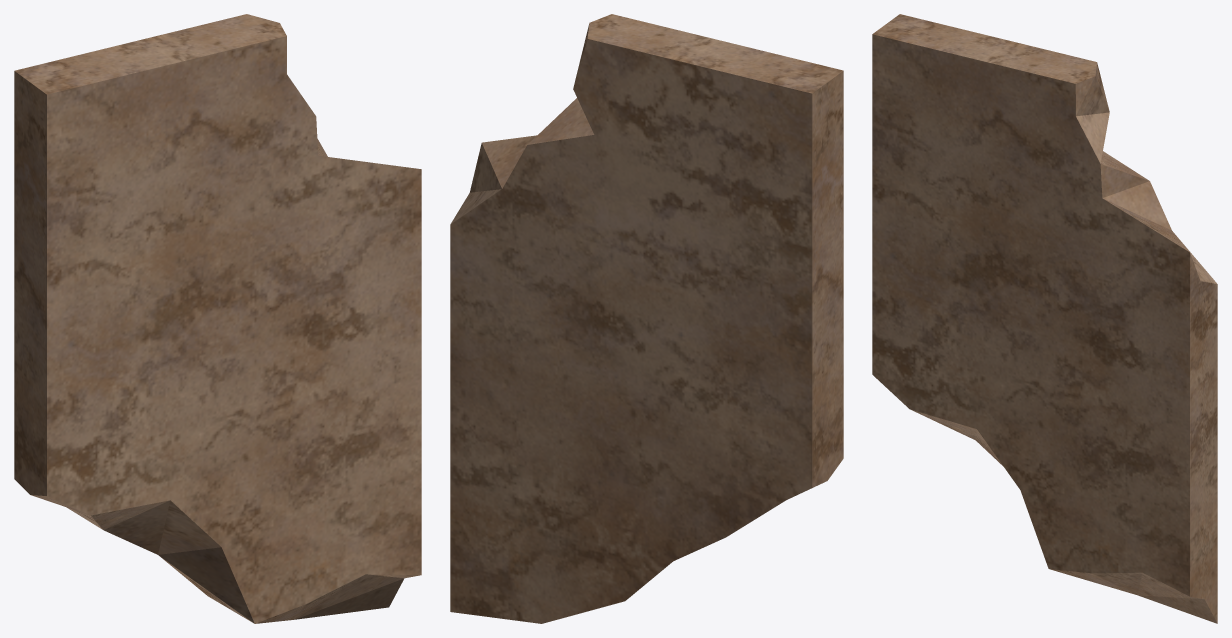
Rendered from DoorsDestroyed2.fbx.
3 views of the same model, side by side, from view 1: azimuth 30°, elevation 25°; view 2: azimuth 150°, elevation 25°; view 3: azimuth 330°, elevation 25° (orthographic). The views are drawn at different scales.
Visible parts, largest first — view 1: DoorsDestroyed; view 2: DoorsDestroyed; view 3: DoorsDestroyed.
Boxes of the visible parts, x1=… form: DoorsDestroyed: x1=14, y1=14, x2=421, y2=623; DoorsDestroyed: x1=450, y1=14, x2=843, y2=623; DoorsDestroyed: x1=872, y1=14, x2=1217, y2=623.
Bounding box in the file's own units: 307 × 492 × 46.3.
Materials: 1 (1 with a texture image).
